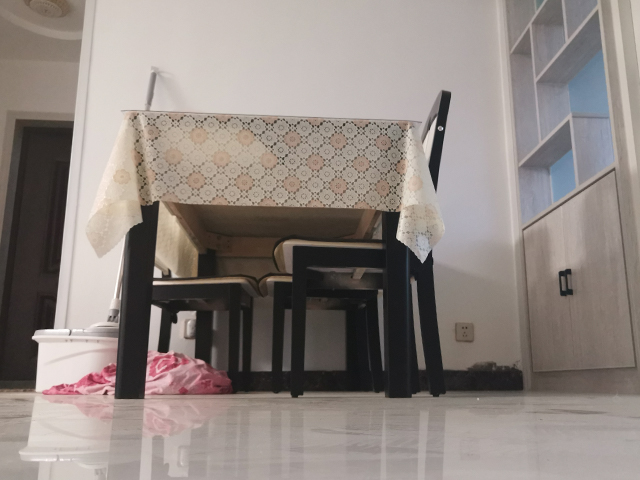cabinet: (495, 164, 637, 396)
stool: (270, 88, 451, 398), (133, 272, 260, 390)
table: (110, 108, 422, 402)
